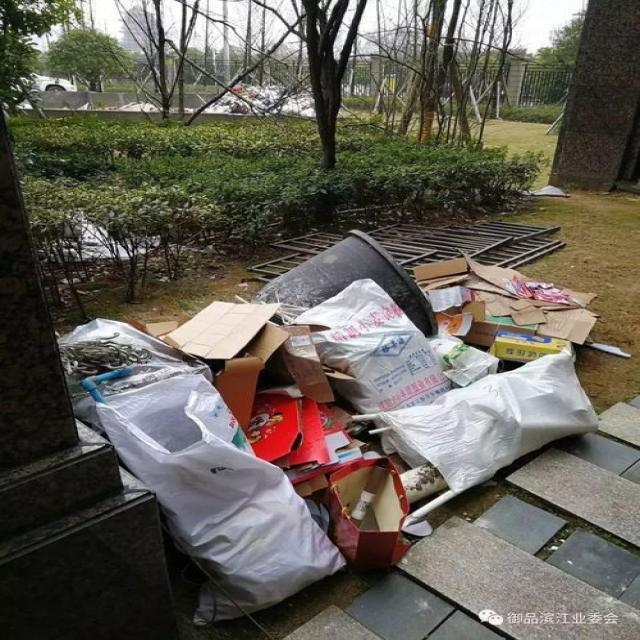garbage: (59, 228, 628, 626)
